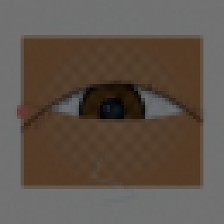foreign_body_visible: (45, 110, 61, 123)
